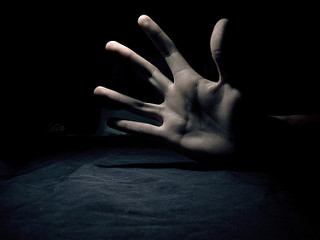palm: (170, 75, 244, 165)
